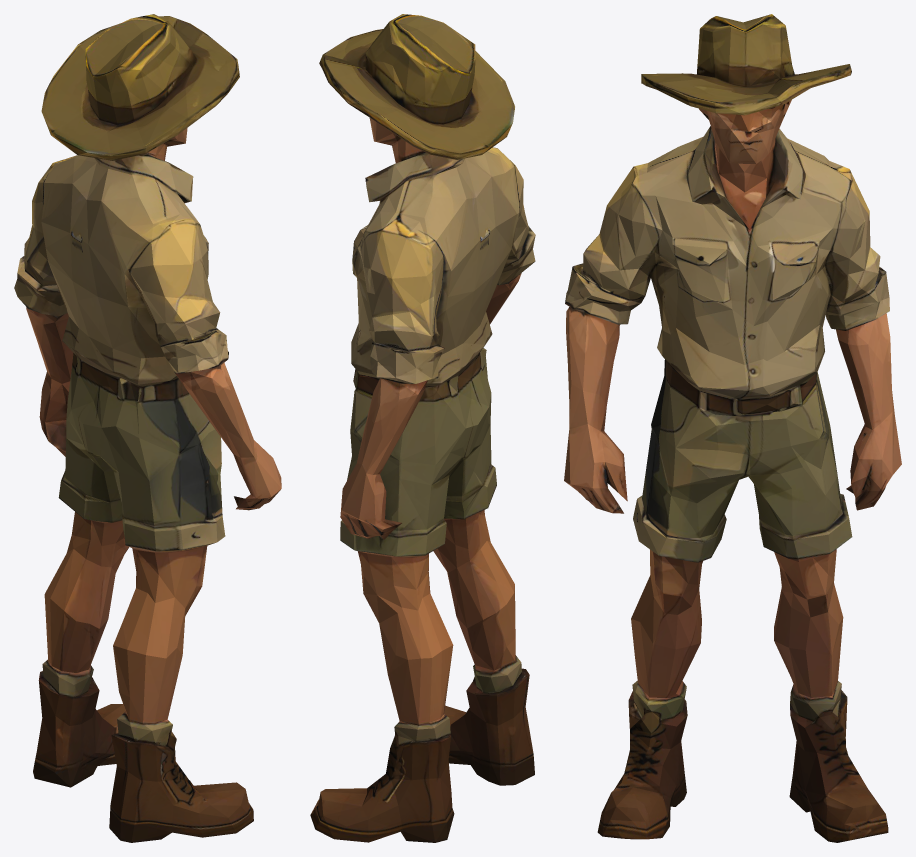
The model's file is Boer2.glb.
3 renders of one model, left to right at view 1: azimuth 30°, elevation 25°; view 2: azimuth 150°, elevation 25°; view 3: azimuth 270°, elevation 25°, orthographic. The views are drawn at different scales.
Parts seen in each view (by area): view 1: tripo_node_773dbb65-e90c-416e-b508-7cae87d5fd6a; view 2: tripo_node_773dbb65-e90c-416e-b508-7cae87d5fd6a; view 3: tripo_node_773dbb65-e90c-416e-b508-7cae87d5fd6a.
Boxes of the visible parts, x1,y1,x2,y2 form: tripo_node_773dbb65-e90c-416e-b508-7cae87d5fd6a: [14, 14, 281, 842]; tripo_node_773dbb65-e90c-416e-b508-7cae87d5fd6a: [310, 14, 535, 842]; tripo_node_773dbb65-e90c-416e-b508-7cae87d5fd6a: [564, 14, 901, 842].
Bounding box in the file's own units: 0.2293 × 0.9994 × 0.3792.
Materials: 1 (1 with a texture image).
